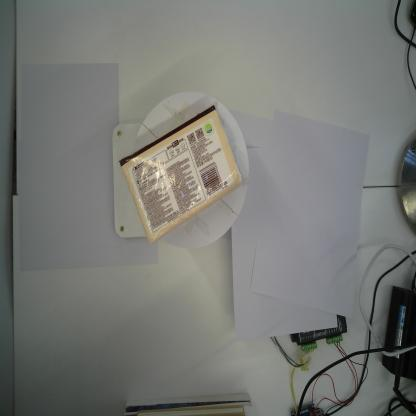Tissue: (117, 98, 248, 246)
